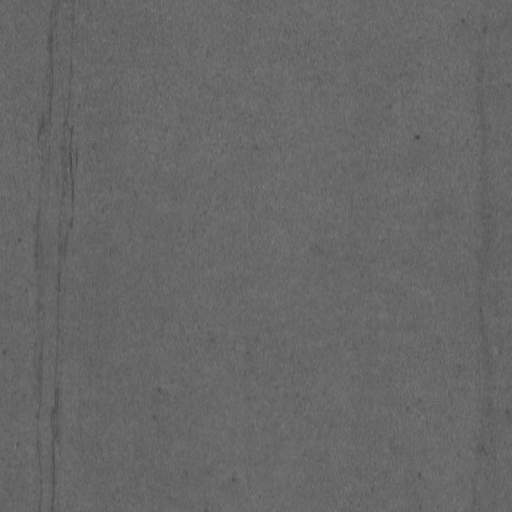zongxianghuashang: (32, 10, 54, 507)
